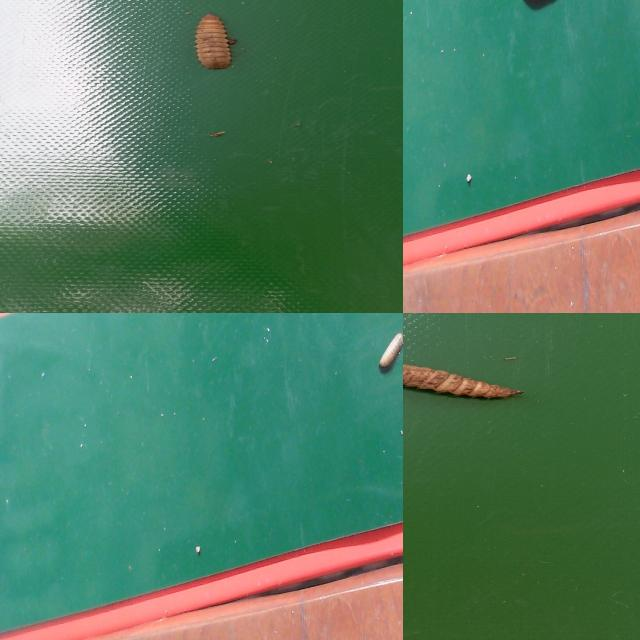Maggot: (403, 365, 520, 402), (193, 15, 236, 72), (377, 333, 403, 377), (522, 0, 557, 11)
